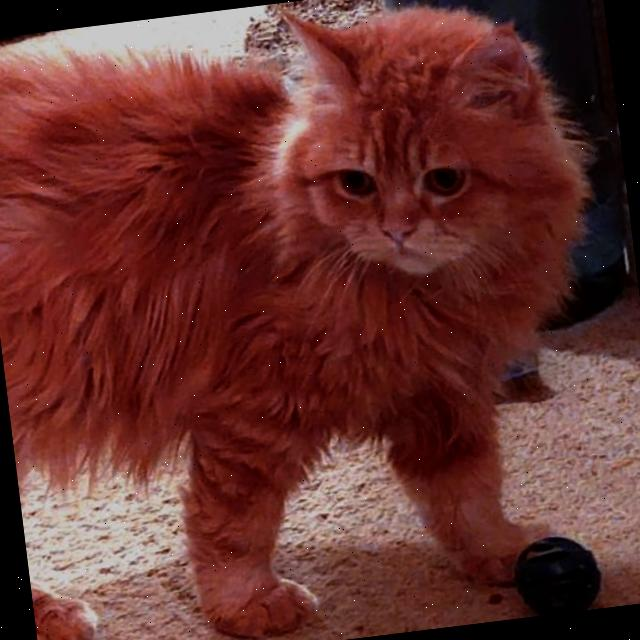persian_cat: (242, 0, 579, 329)
